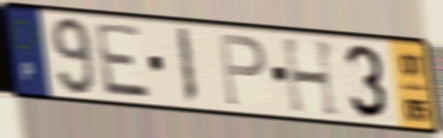3: (342, 41, 390, 122)
9: (47, 14, 99, 99)
E: (92, 20, 155, 101)
H: (279, 36, 343, 120)
I: (173, 25, 200, 108)
P: (215, 30, 268, 109)
